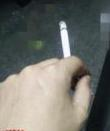smoke: (59, 20, 74, 70)
